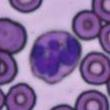N: (30, 31, 82, 82)
